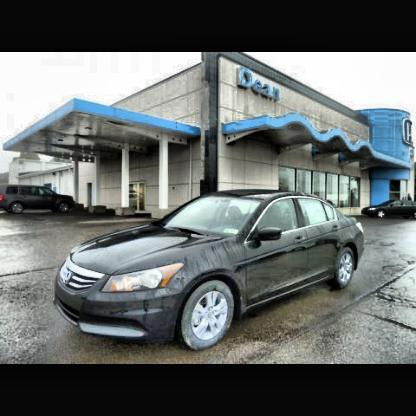Honda Accord Sedan 2012: (56, 191, 364, 353)
